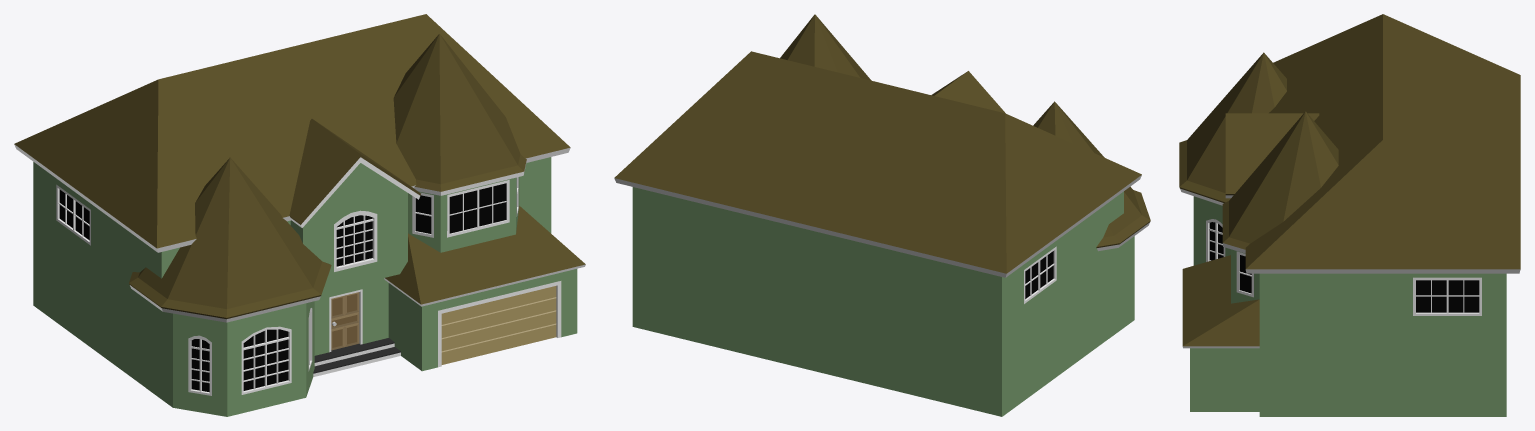
File: House-24-b.fbx
The picture shows the model from 3 angles, left to right: view 1: azimuth 30°, elevation 25°; view 2: azimuth 150°, elevation 25°; view 3: azimuth 270°, elevation 25°; orthographic projection. The views are drawn at different scales.
Visible parts, largest first — view 1: House-01; view 2: House-01; view 3: House-01.
Part boxes in pixels (x1=…): House-01: x1=14, y1=14, x2=585, y2=416; House-01: x1=614, y1=14, x2=1150, y2=416; House-01: x1=1179, y1=14, x2=1520, y2=416.
Size of what is drawn, in the model's own units: 19.01 by 11.99 by 14.02.
